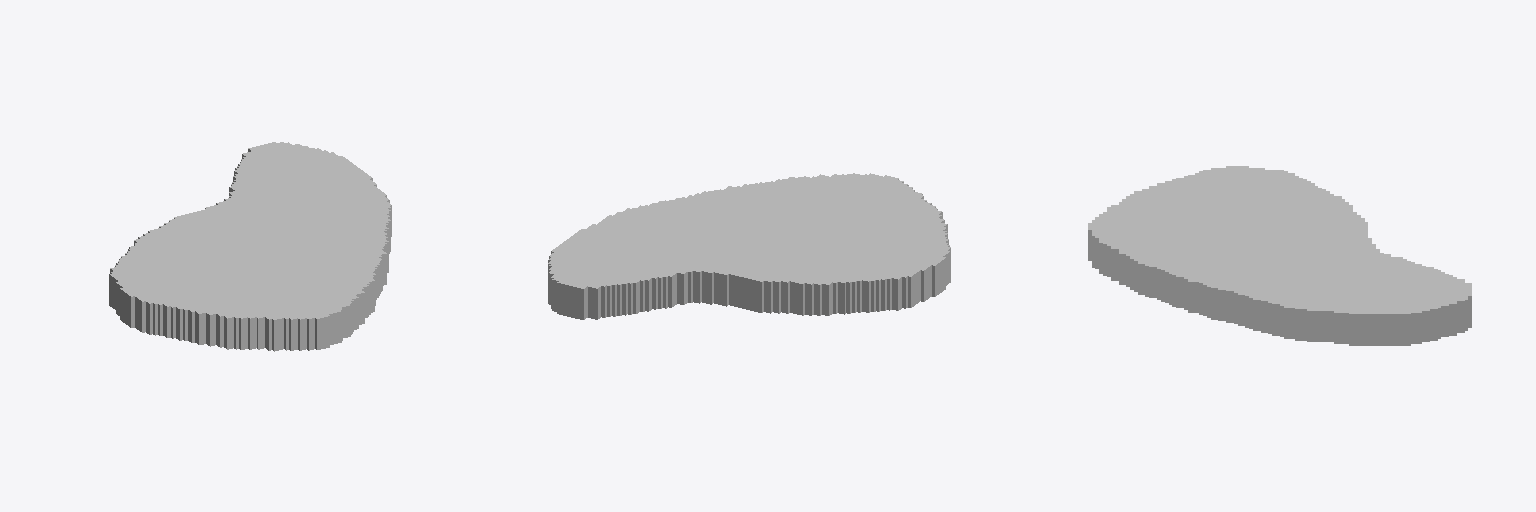
The model's file is FileteCarne.obj.
The picture shows the model from 3 angles: view 1: azimuth 30°, elevation 25°; view 2: azimuth 150°, elevation 25°; view 3: azimuth 270°, elevation 25°; orthographic projection.
Visible parts, largest first — view 1: object 1; view 2: object 1; view 3: object 1.
Boxes of the visible parts, x1=… form: object 1: x1=109, y1=142, x2=391, y2=351; object 1: x1=548, y1=173, x2=950, y2=319; object 1: x1=1088, y1=166, x2=1471, y2=345.
Size of the model in its own units: 9.1 by 0.9 by 10.